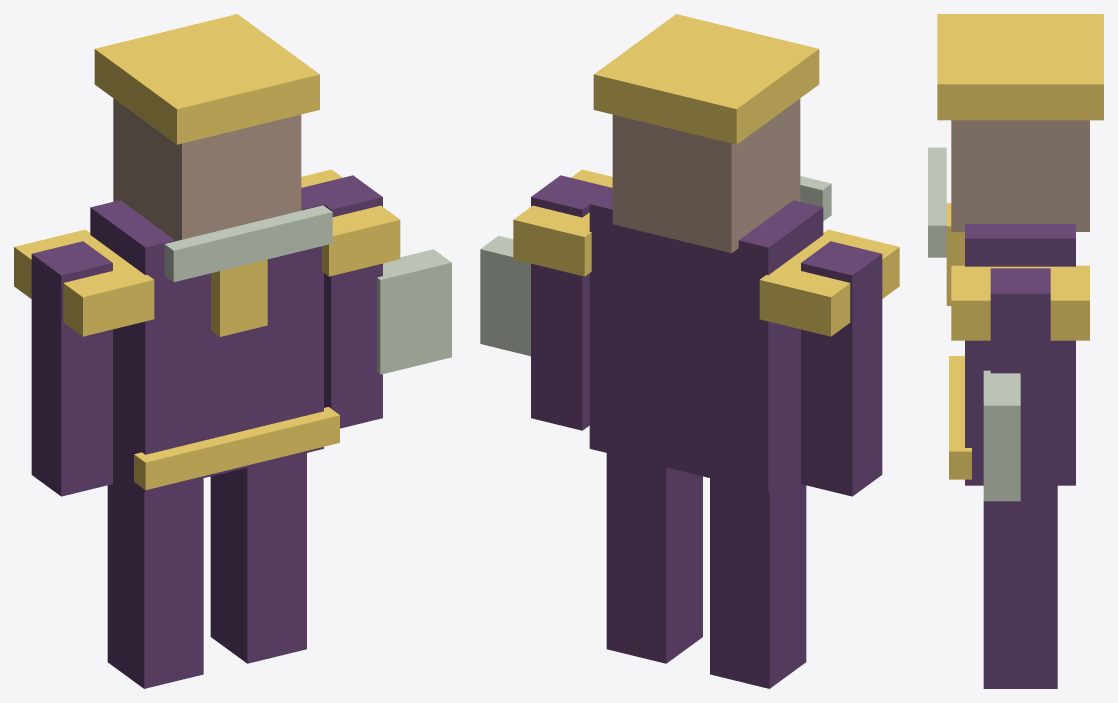
Rendered from 16_sarai_tideforged_keeper_at_express.glb.
3 views of the same model, side by side, from view 1: azimuth 30°, elevation 25°; view 2: azimuth 150°, elevation 25°; view 3: azimuth 270°, elevation 25° (orthographic).
Parts seen in each view (by area): view 1: Sarai Tideforged, Keeper at Express; view 2: Sarai Tideforged, Keeper at Express; view 3: Sarai Tideforged, Keeper at Express.
Part boxes in pixels (x1,y1,x2,y2): Sarai Tideforged, Keeper at Express: [14, 14, 451, 688]; Sarai Tideforged, Keeper at Express: [480, 14, 899, 688]; Sarai Tideforged, Keeper at Express: [928, 14, 1103, 688].
Bounding box in the file's own units: 1.04 × 1.53 × 0.4071.
